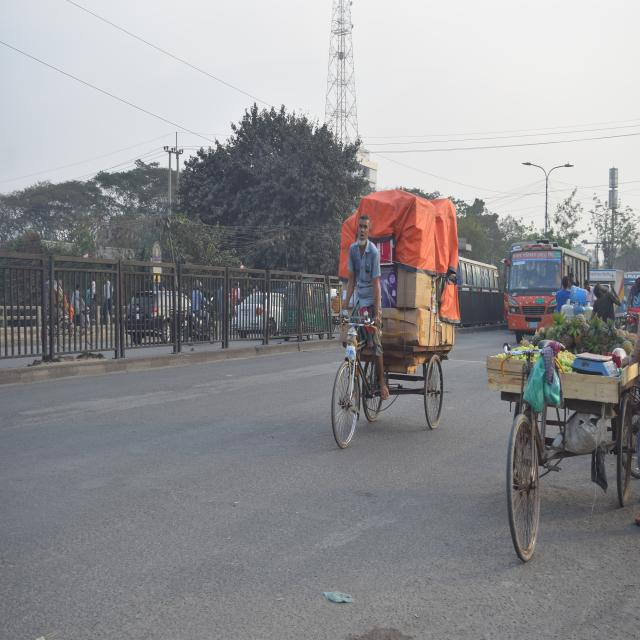bus: (505, 241, 589, 327), (456, 250, 496, 292)
car: (232, 285, 294, 343), (124, 282, 184, 341)
motorbike: (185, 305, 216, 347)
